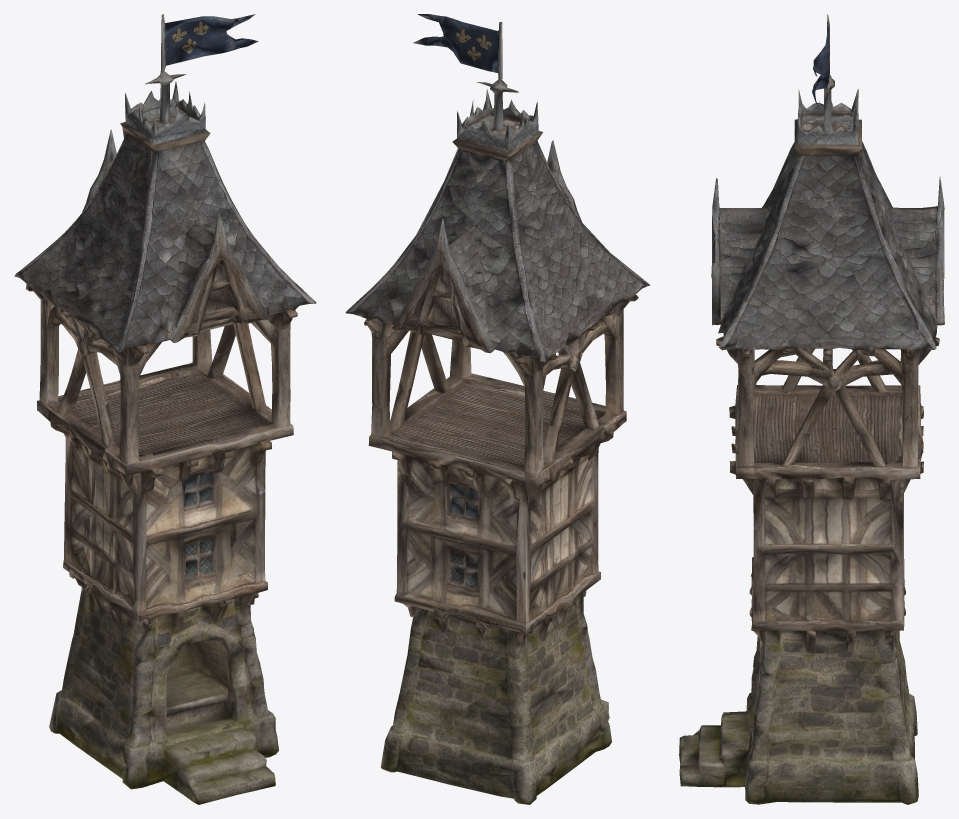
The model's file is belfry.glb.
3 views of the same model, side by side, from view 1: azimuth 30°, elevation 25°; view 2: azimuth 150°, elevation 25°; view 3: azimuth 270°, elevation 25° (orthographic). The views are drawn at different scales.
Parts seen in each view (by area): view 1: belfry; view 2: belfry; view 3: belfry.
Boxes of the visible parts, x1,y1,x2,y2 form: belfry: [14, 14, 316, 804]; belfry: [345, 14, 650, 804]; belfry: [679, 14, 944, 804].
Bounding box in the file's own units: 0.5437 × 1.9 × 0.6083.
Materials: 1 (1 with a texture image).
